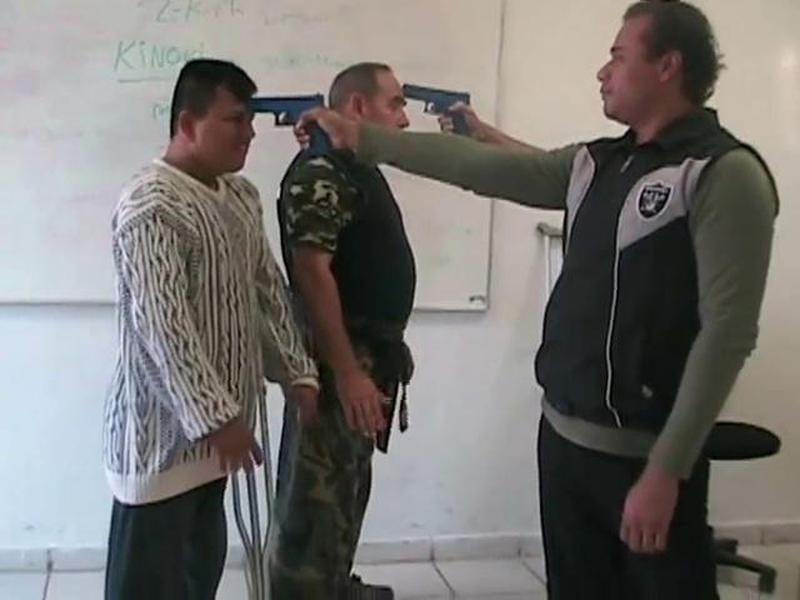Pistola: (246, 87, 343, 157), (401, 79, 481, 144)
